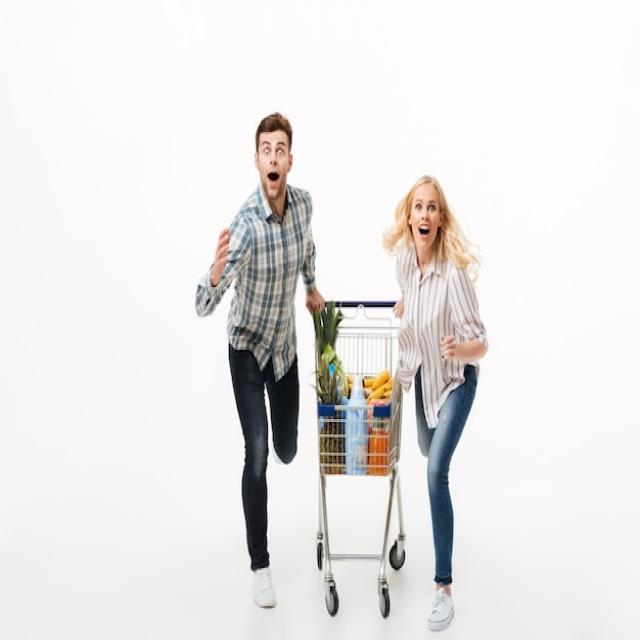Person: (196, 112, 325, 608), (381, 177, 489, 632)
